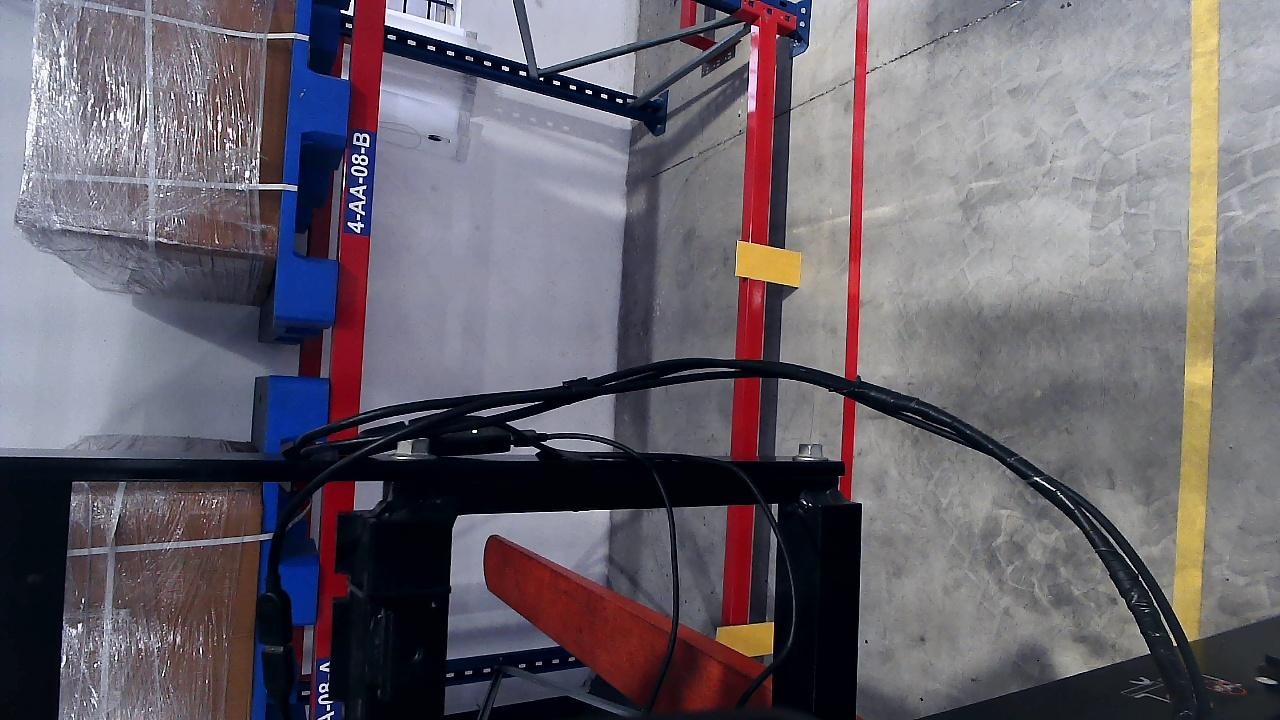h_rack: (313, 0, 390, 720), (718, 21, 767, 717)
orange_strip: (735, 241, 801, 287), (715, 621, 773, 656)
red_line: (838, 0, 868, 496)
small_pallet: (268, 0, 361, 316), (244, 377, 326, 720)
yellow_line: (1167, 0, 1220, 658)
